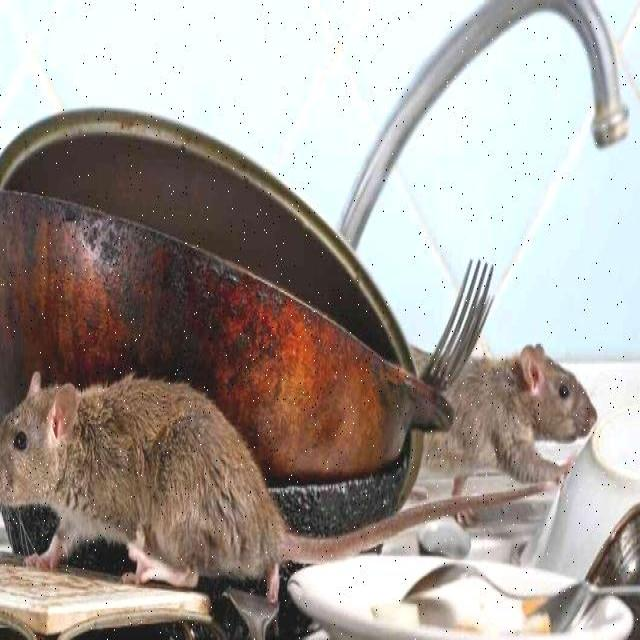rat: (0, 368, 304, 605), (454, 339, 598, 502)
